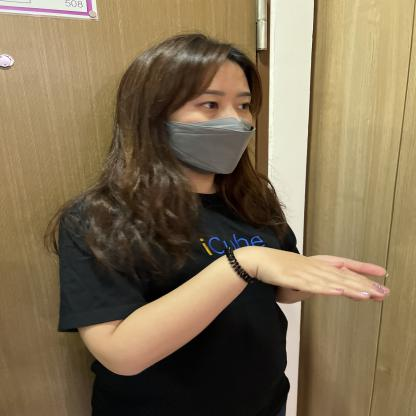Love: (120, 234, 415, 342)
